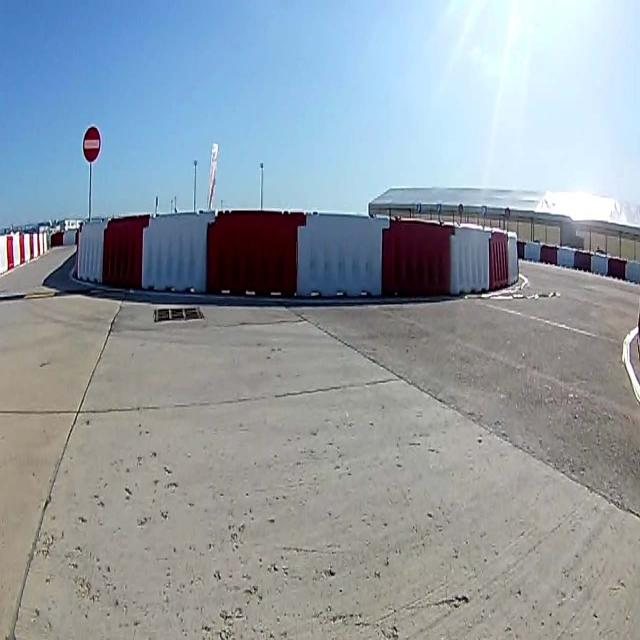girisyok: (82, 126, 100, 162)
